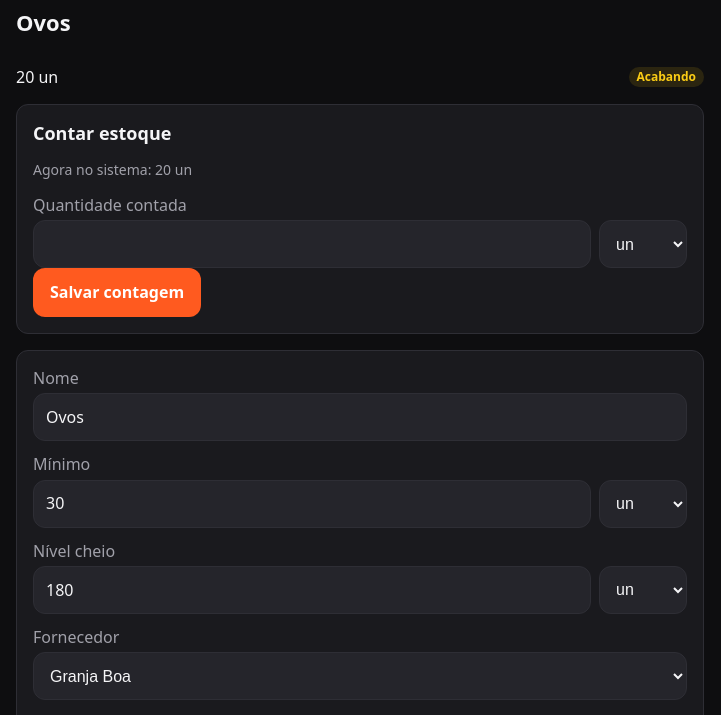
Test: Item do estoque › quantidade inválida não envia e avisa
The image size is (721, 715).
Type "abc" into the field labelled "Quantidade contada" at (312, 244), box [33,220,591,268]
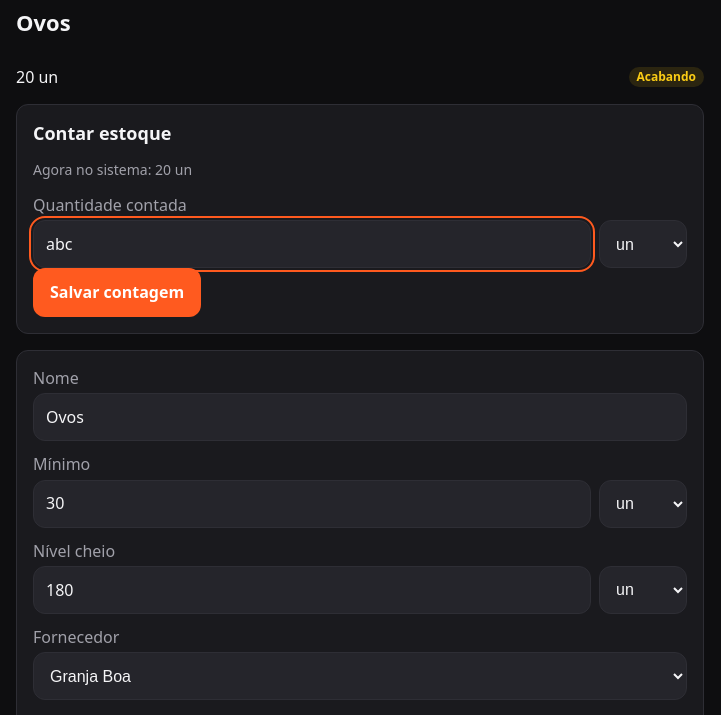
Click the button "Salvar contagem" at (117, 293), box [33,268,201,317]
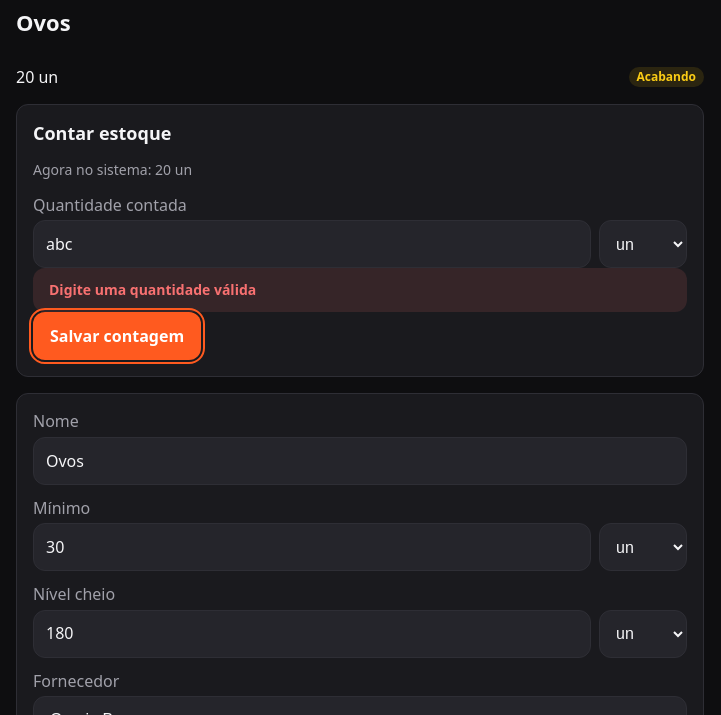
Expected: the message reads "Digite uma quantidade válida", [49,280,256,299]
